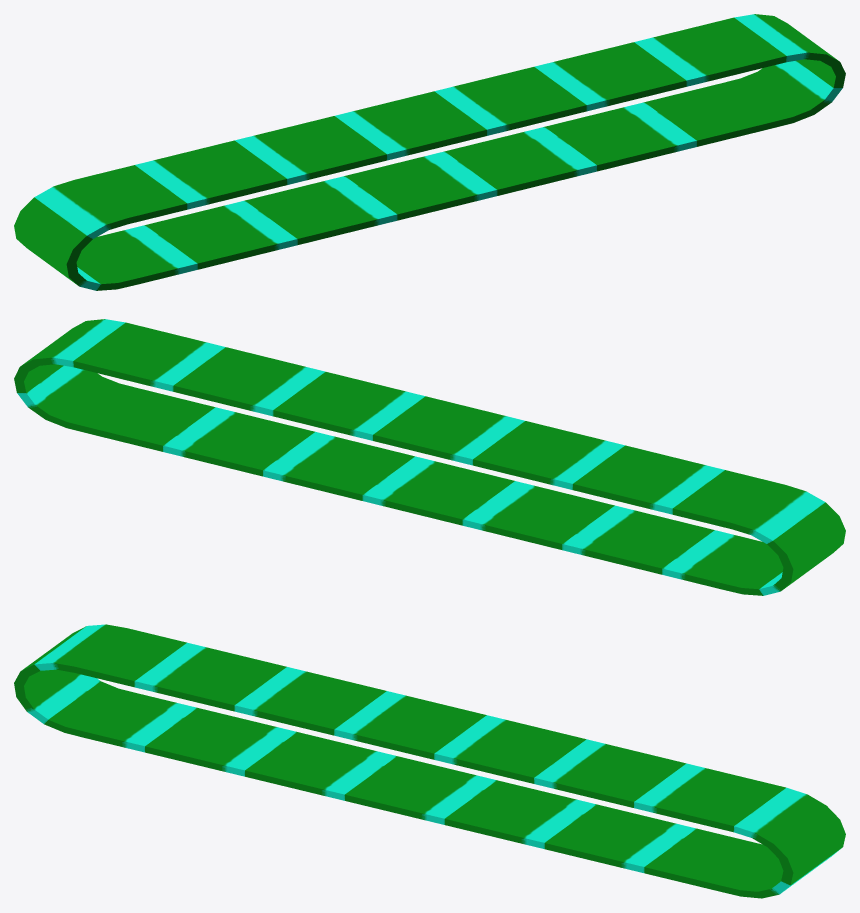
Rendered from Belt.glb.
The picture shows the model from 3 angles, top to bottom: view 1: azimuth 30°, elevation 25°; view 2: azimuth 150°, elevation 25°; view 3: azimuth 330°, elevation 25°; orthographic projection.
Parts seen in each view (by area): view 1: Cube.031; view 2: Cube.031; view 3: Cube.031.
Part boxes in pixels (<box>): Cube.031: <box>14,14,845,290</box>; Cube.031: <box>14,319,845,595</box>; Cube.031: <box>14,624,845,898</box>.
Bounding box in the file's own units: 0.6675 × 0.0575 × 0.078.
Materials: 1 (1 with a texture image).
